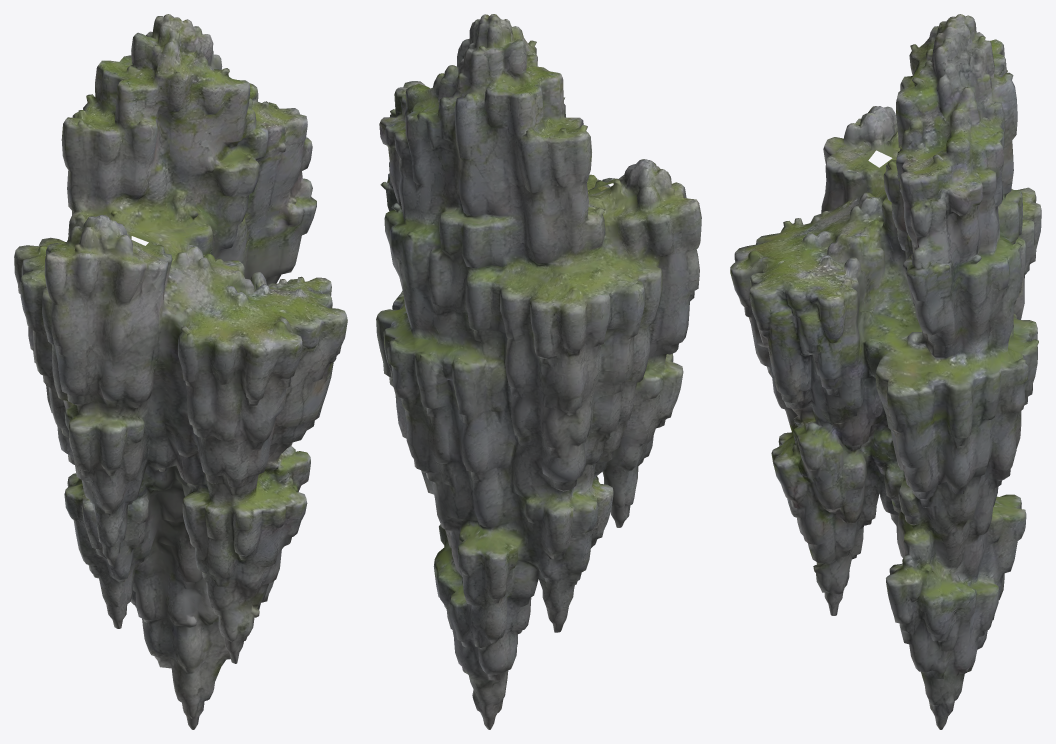
Rendered from pinnacle__variant__v3.glb.
The picture shows the model from 3 angles, left to right: view 1: azimuth 30°, elevation 25°; view 2: azimuth 150°, elevation 25°; view 3: azimuth 270°, elevation 25°; orthographic projection. The views are drawn at different scales.
Parts seen in each view (by area): view 1: tripo_node_f63178f2-6d73-45ef-8130-337961c13f87; view 2: tripo_node_f63178f2-6d73-45ef-8130-337961c13f87; view 3: tripo_node_f63178f2-6d73-45ef-8130-337961c13f87.
Boxes of the visible parts, x1=… form: tripo_node_f63178f2-6d73-45ef-8130-337961c13f87: x1=14, y1=14, x2=347, y2=729; tripo_node_f63178f2-6d73-45ef-8130-337961c13f87: x1=376, y1=14, x2=701, y2=729; tripo_node_f63178f2-6d73-45ef-8130-337961c13f87: x1=730, y1=14, x2=1041, y2=729.
Size of the model in its own units: 0.4235 by 1 by 0.3991.
1 material, 1 textured.
